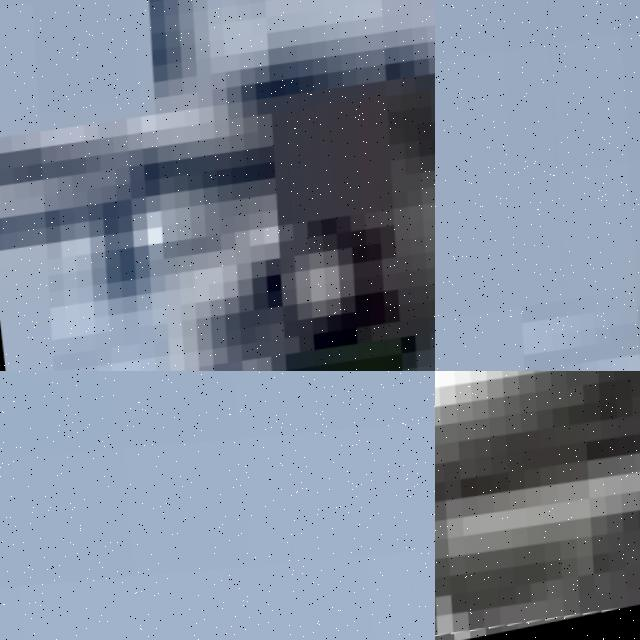drone: (0, 0, 435, 371), (435, 0, 640, 371), (435, 371, 640, 640)
